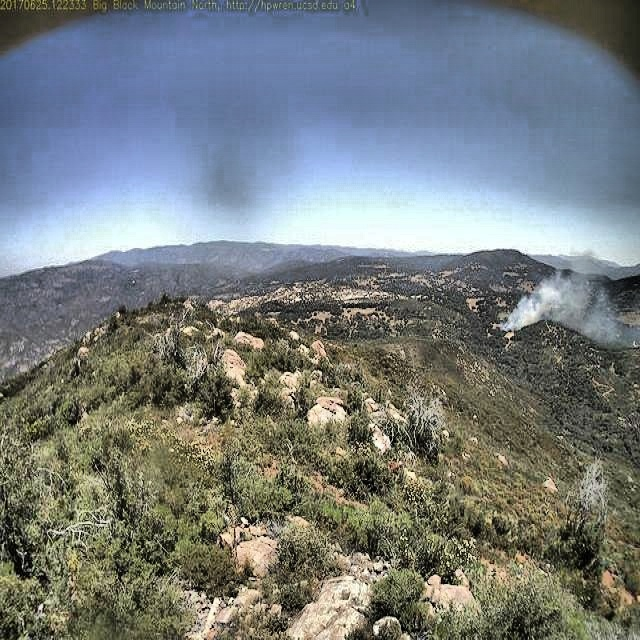smoke: (500, 245, 636, 359)
